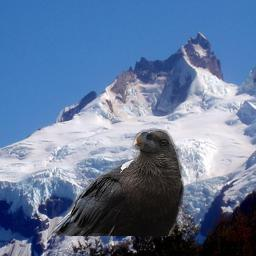Crow: (47, 127, 187, 236)
